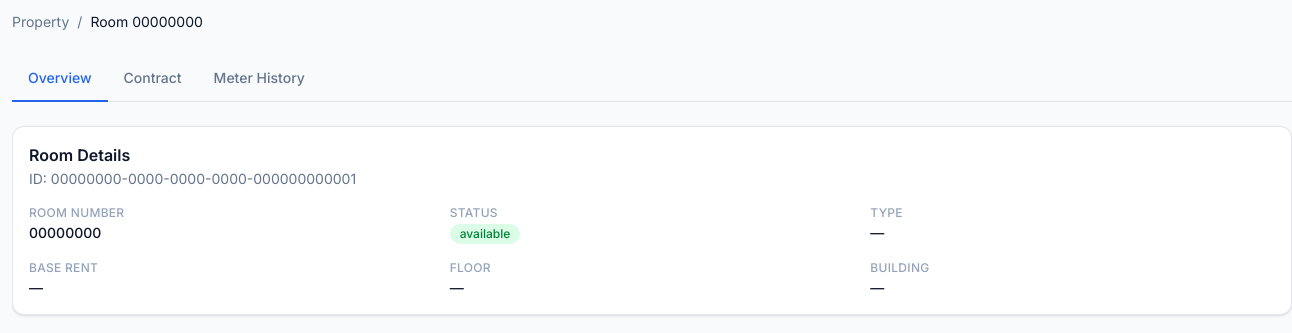
RoomDetailPage › tab switching › switches to Meter History tab when clicked
Click the tab "Meter History" at (259, 79), box [198,56,321,102]
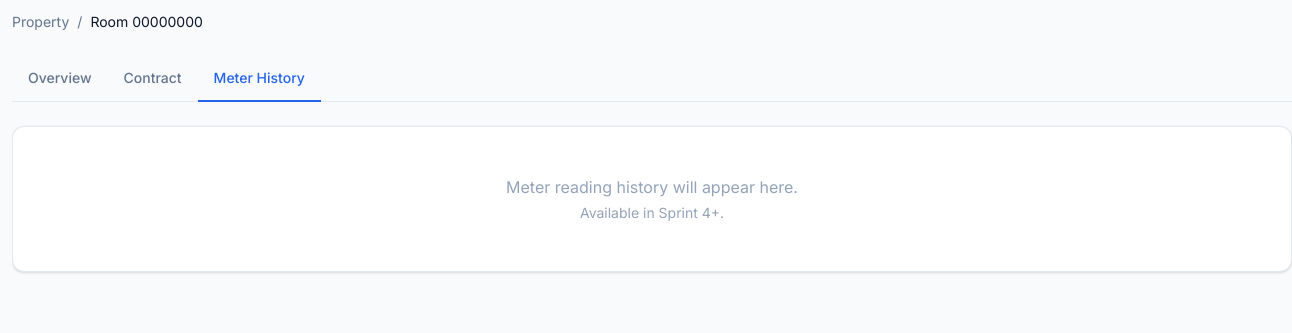
expect the text "Meter reading history will appear here." is shown: met, box [506,177,798,197]
